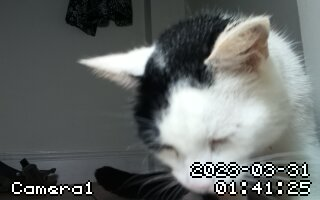bad: (78, 10, 309, 187)
